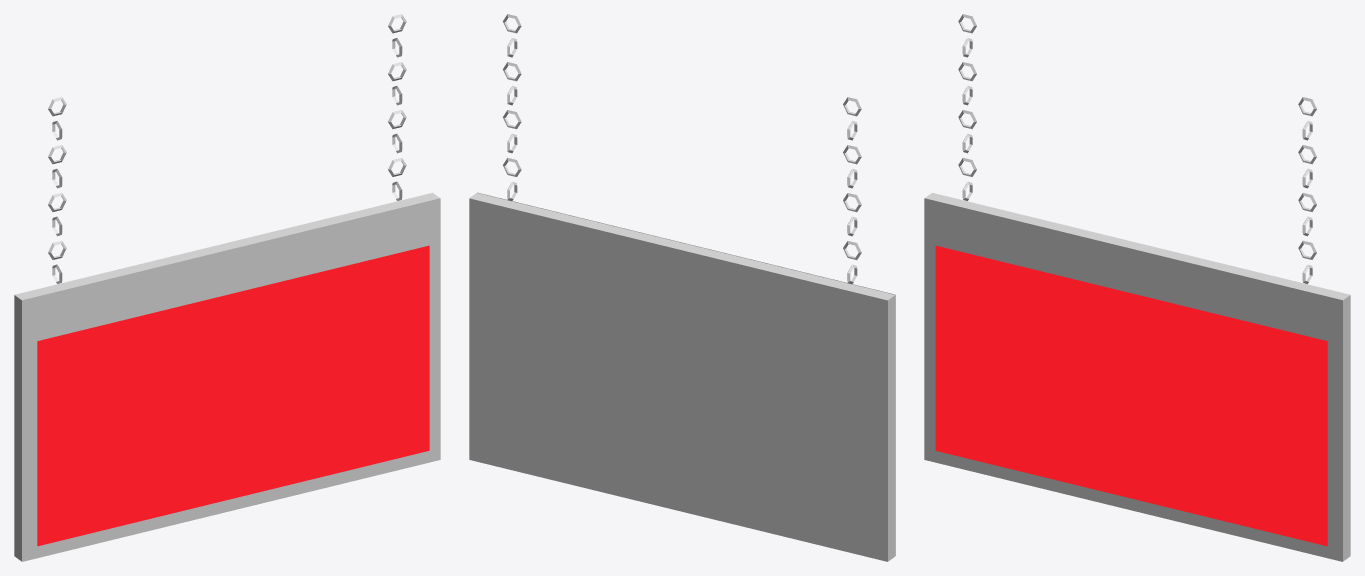
Rendered from sign_eigyochu_window.glb.
3 views of the same model, side by side, from view 1: azimuth 30°, elevation 25°; view 2: azimuth 150°, elevation 25°; view 3: azimuth 330°, elevation 25° (orthographic).
Parts seen in each view (by area): view 1: sign_eigyochu_window_LOD0; view 2: sign_eigyochu_window_LOD0; view 3: sign_eigyochu_window_LOD0.
Part boxes in pixels (x1=…): sign_eigyochu_window_LOD0: x1=14, y1=14, x2=440, y2=561; sign_eigyochu_window_LOD0: x1=469, y1=14, x2=895, y2=561; sign_eigyochu_window_LOD0: x1=924, y1=14, x2=1350, y2=561.
Size of what is drawn, in the model's own units: 0.64 by 0.6596 by 0.0286.
